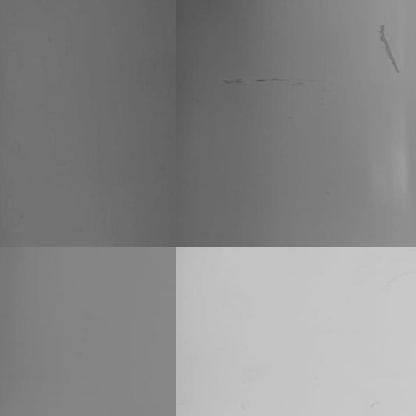sunshang: (377, 25, 406, 76)
